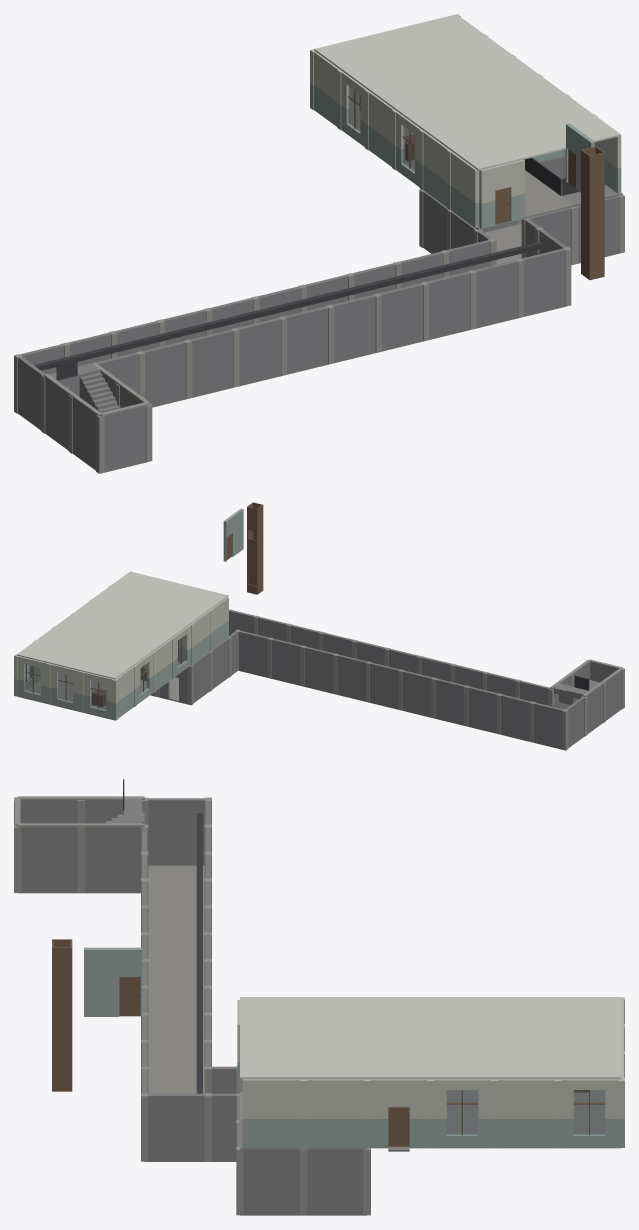
Rendered from INT_Service.glb.
3 views of the same model, one above another, from view 1: azimuth 30°, elevation 25°; view 2: azimuth 150°, elevation 25°; view 3: azimuth 270°, elevation 25° (orthographic). The views are drawn at different scales.
Parts seen in each view (by area): view 1: INT_Service_Dumbwaiter_Shaft_01, INT_Service_WallB_Solid_05, INT_Service_WallB_Solid_04, INT_Service_WallB_Solid_06, INT_Service_WallB_Solid_03, INT_Service_WallB_Solid_08, INT_Service_WallB_Solid_09, INT_Service_WallB_Solid_10, INT_Service_WallB_Solid_07, INT_Service_WallB_Solid_26, INT_Service_WallB_Solid_02, INT_Service_Wall_DoorService_01 (+48 smaller); view 2: INT_Service_Dumbwaiter_Shaft_01, INT_Service_Wall_Window_05, INT_Service_WallB_Solid_15, INT_Service_WallB_Solid_18, INT_Service_WallB_Solid_11, INT_Service_Wall_Window_07, INT_Service_Wall_Window_06, INT_Service_WallB_Solid_14, INT_Service_WallB_Solid_17, INT_Service_WallB_Solid_12, INT_Service_WallB_Solid_13, INT_Service_WallB_Solid_20 (+44 smaller); view 3: INT_Service_Wall_Solid_05, INT_Service_Wall_Solid_06, INT_Service_Wall_Window_03, INT_Service_Wall_Window_04, INT_Service_WallB_Solid_35, INT_Service_Wall_Solid_07, INT_Service_WallB_Solid_24, INT_Service_WallB_Solid_29, INT_Service_WallB_Solid_30, INT_Service_WallB_Solid_25, INT_Service_WallB_Solid_23, INT_Service_Wall_DoorServery_01 (+40 smaller).
Boxes of the visible parts, left/top/right/bottom form: INT_Service_Dumbwaiter_Shaft_01: left=581, top=146, right=604, bottom=280; INT_Service_WallB_Solid_05: left=284, top=306, right=328, bottom=374; INT_Service_WallB_Solid_04: left=236, top=318, right=281, bottom=385; INT_Service_WallB_Solid_06: left=332, top=294, right=375, bottom=362; INT_Service_WallB_Solid_03: left=190, top=329, right=233, bottom=397; INT_Service_WallB_Solid_08: left=426, top=272, right=470, bottom=339; INT_Service_WallB_Solid_09: left=474, top=260, right=518, bottom=327; INT_Service_WallB_Solid_10: left=521, top=248, right=565, bottom=316; INT_Service_WallB_Solid_07: left=379, top=283, right=422, bottom=350; INT_Service_WallB_Solid_26: left=104, top=406, right=146, bottom=471; INT_Service_WallB_Solid_02: left=142, top=341, right=186, bottom=406; INT_Service_Wall_DoorService_01: left=479, top=159, right=524, bottom=228; INT_Service_Dumbwaiter_Shaft_01: left=247, top=502, right=263, bottom=594; INT_Service_Wall_Window_05: left=83, top=672, right=113, bottom=719; INT_Service_WallB_Solid_15: left=402, top=670, right=432, bottom=717; INT_Service_WallB_Solid_18: left=304, top=646, right=334, bottom=693; INT_Service_WallB_Solid_11: left=533, top=702, right=563, bottom=749; INT_Service_Wall_Window_07: left=18, top=656, right=47, bottom=703; INT_Service_Wall_Window_06: left=51, top=664, right=79, bottom=711; INT_Service_WallB_Solid_14: left=435, top=678, right=465, bottom=725; INT_Service_WallB_Solid_17: left=337, top=654, right=367, bottom=701; INT_Service_WallB_Solid_12: left=500, top=694, right=531, bottom=741; INT_Service_WallB_Solid_13: left=468, top=686, right=498, bottom=733; INT_Service_WallB_Solid_20: left=239, top=630, right=269, bottom=677; INT_Service_Wall_Solid_05: left=242, top=1079, right=299, bottom=1147; INT_Service_Wall_Solid_06: left=307, top=1079, right=363, bottom=1147; INT_Service_Wall_Window_03: left=434, top=1079, right=490, bottom=1147; INT_Service_Wall_Window_04: left=561, top=1079, right=617, bottom=1147; INT_Service_WallB_Solid_35: left=147, top=1093, right=205, bottom=1160; INT_Service_Wall_Solid_07: left=498, top=1079, right=553, bottom=1147; INT_Service_WallB_Solid_24: left=21, top=827, right=77, bottom=892; INT_Service_WallB_Solid_29: left=243, top=1149, right=299, bottom=1214; INT_Service_WallB_Solid_30: left=307, top=1149, right=363, bottom=1214; INT_Service_WallB_Solid_25: left=85, top=827, right=140, bottom=892; INT_Service_WallB_Solid_23: left=148, top=798, right=204, bottom=865; INT_Service_Wall_DoorServery_01: left=84, top=947, right=141, bottom=1016.
Bounding box in the file's own units: 39.55 × 11.1 × 28.85.
